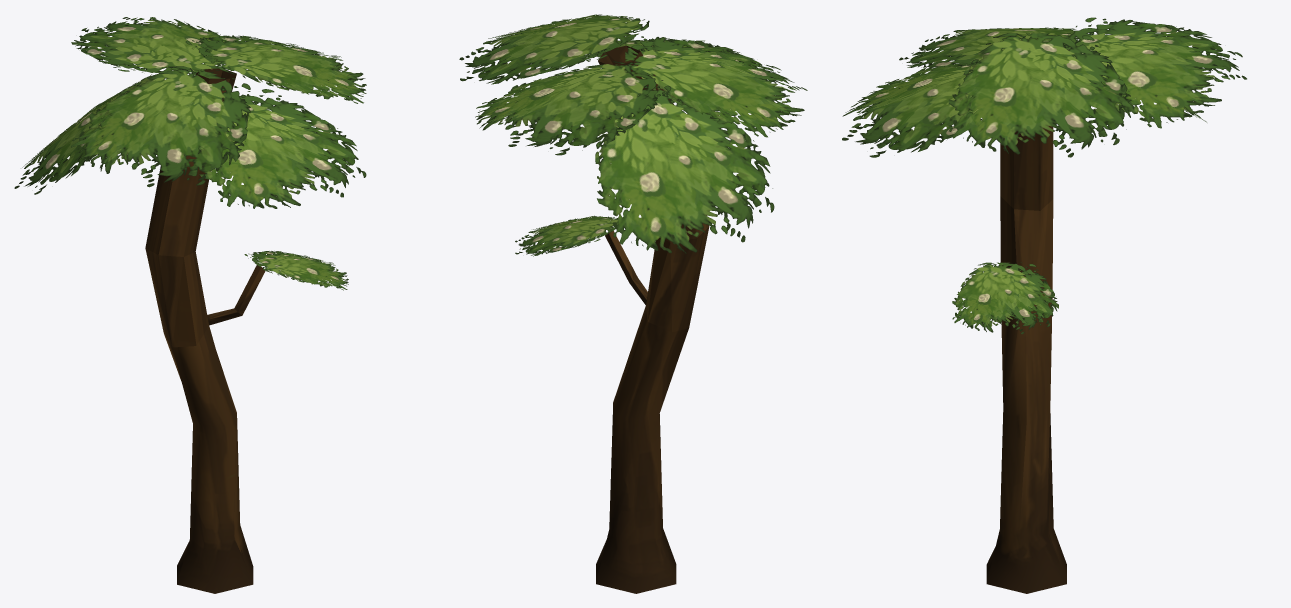
The model's file is tree_TreeTall1.FBX.
3 views of the same model, side by side, from view 1: azimuth 30°, elevation 25°; view 2: azimuth 150°, elevation 25°; view 3: azimuth 270°, elevation 25° (orthographic). The views are drawn at different scales.
Parts seen in each view (by area): view 1: env_Tree008; view 2: env_Tree008; view 3: env_Tree008.
Boxes of the visible parts, x1,y1,x2,y2 form: env_Tree008: [14, 17, 366, 593]; env_Tree008: [459, 14, 807, 593]; env_Tree008: [842, 17, 1246, 593].
Size of the model in its own units: 31.79 by 35.44 by 47.92.
1 material, 1 textured.
